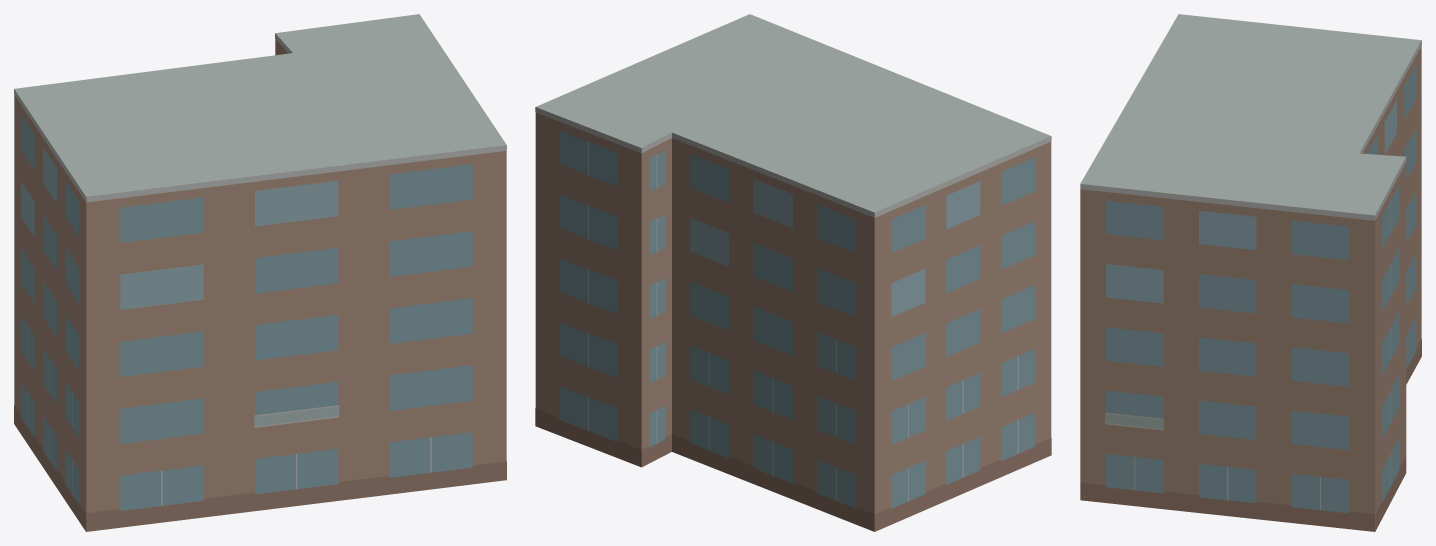
The model's file is survey-upis-32529248.glb.
The picture shows the model from 3 angles, left to right: view 1: azimuth 30°, elevation 25°; view 2: azimuth 150°, elevation 25°; view 3: azimuth 270°, elevation 25°; orthographic projection. The views are drawn at different scales.
Visible parts, largest first — view 1: survey-upis-32529248.tmp; view 2: survey-upis-32529248.tmp; view 3: survey-upis-32529248.tmp.
Part boxes in pixels (box(x1,y1,x2,y2)): survey-upis-32529248.tmp: box(14, 14, 506, 531); survey-upis-32529248.tmp: box(535, 14, 1051, 531); survey-upis-32529248.tmp: box(1080, 14, 1421, 531).
Bounding box in the file's own units: 19.82 × 14.5 × 14.2.
